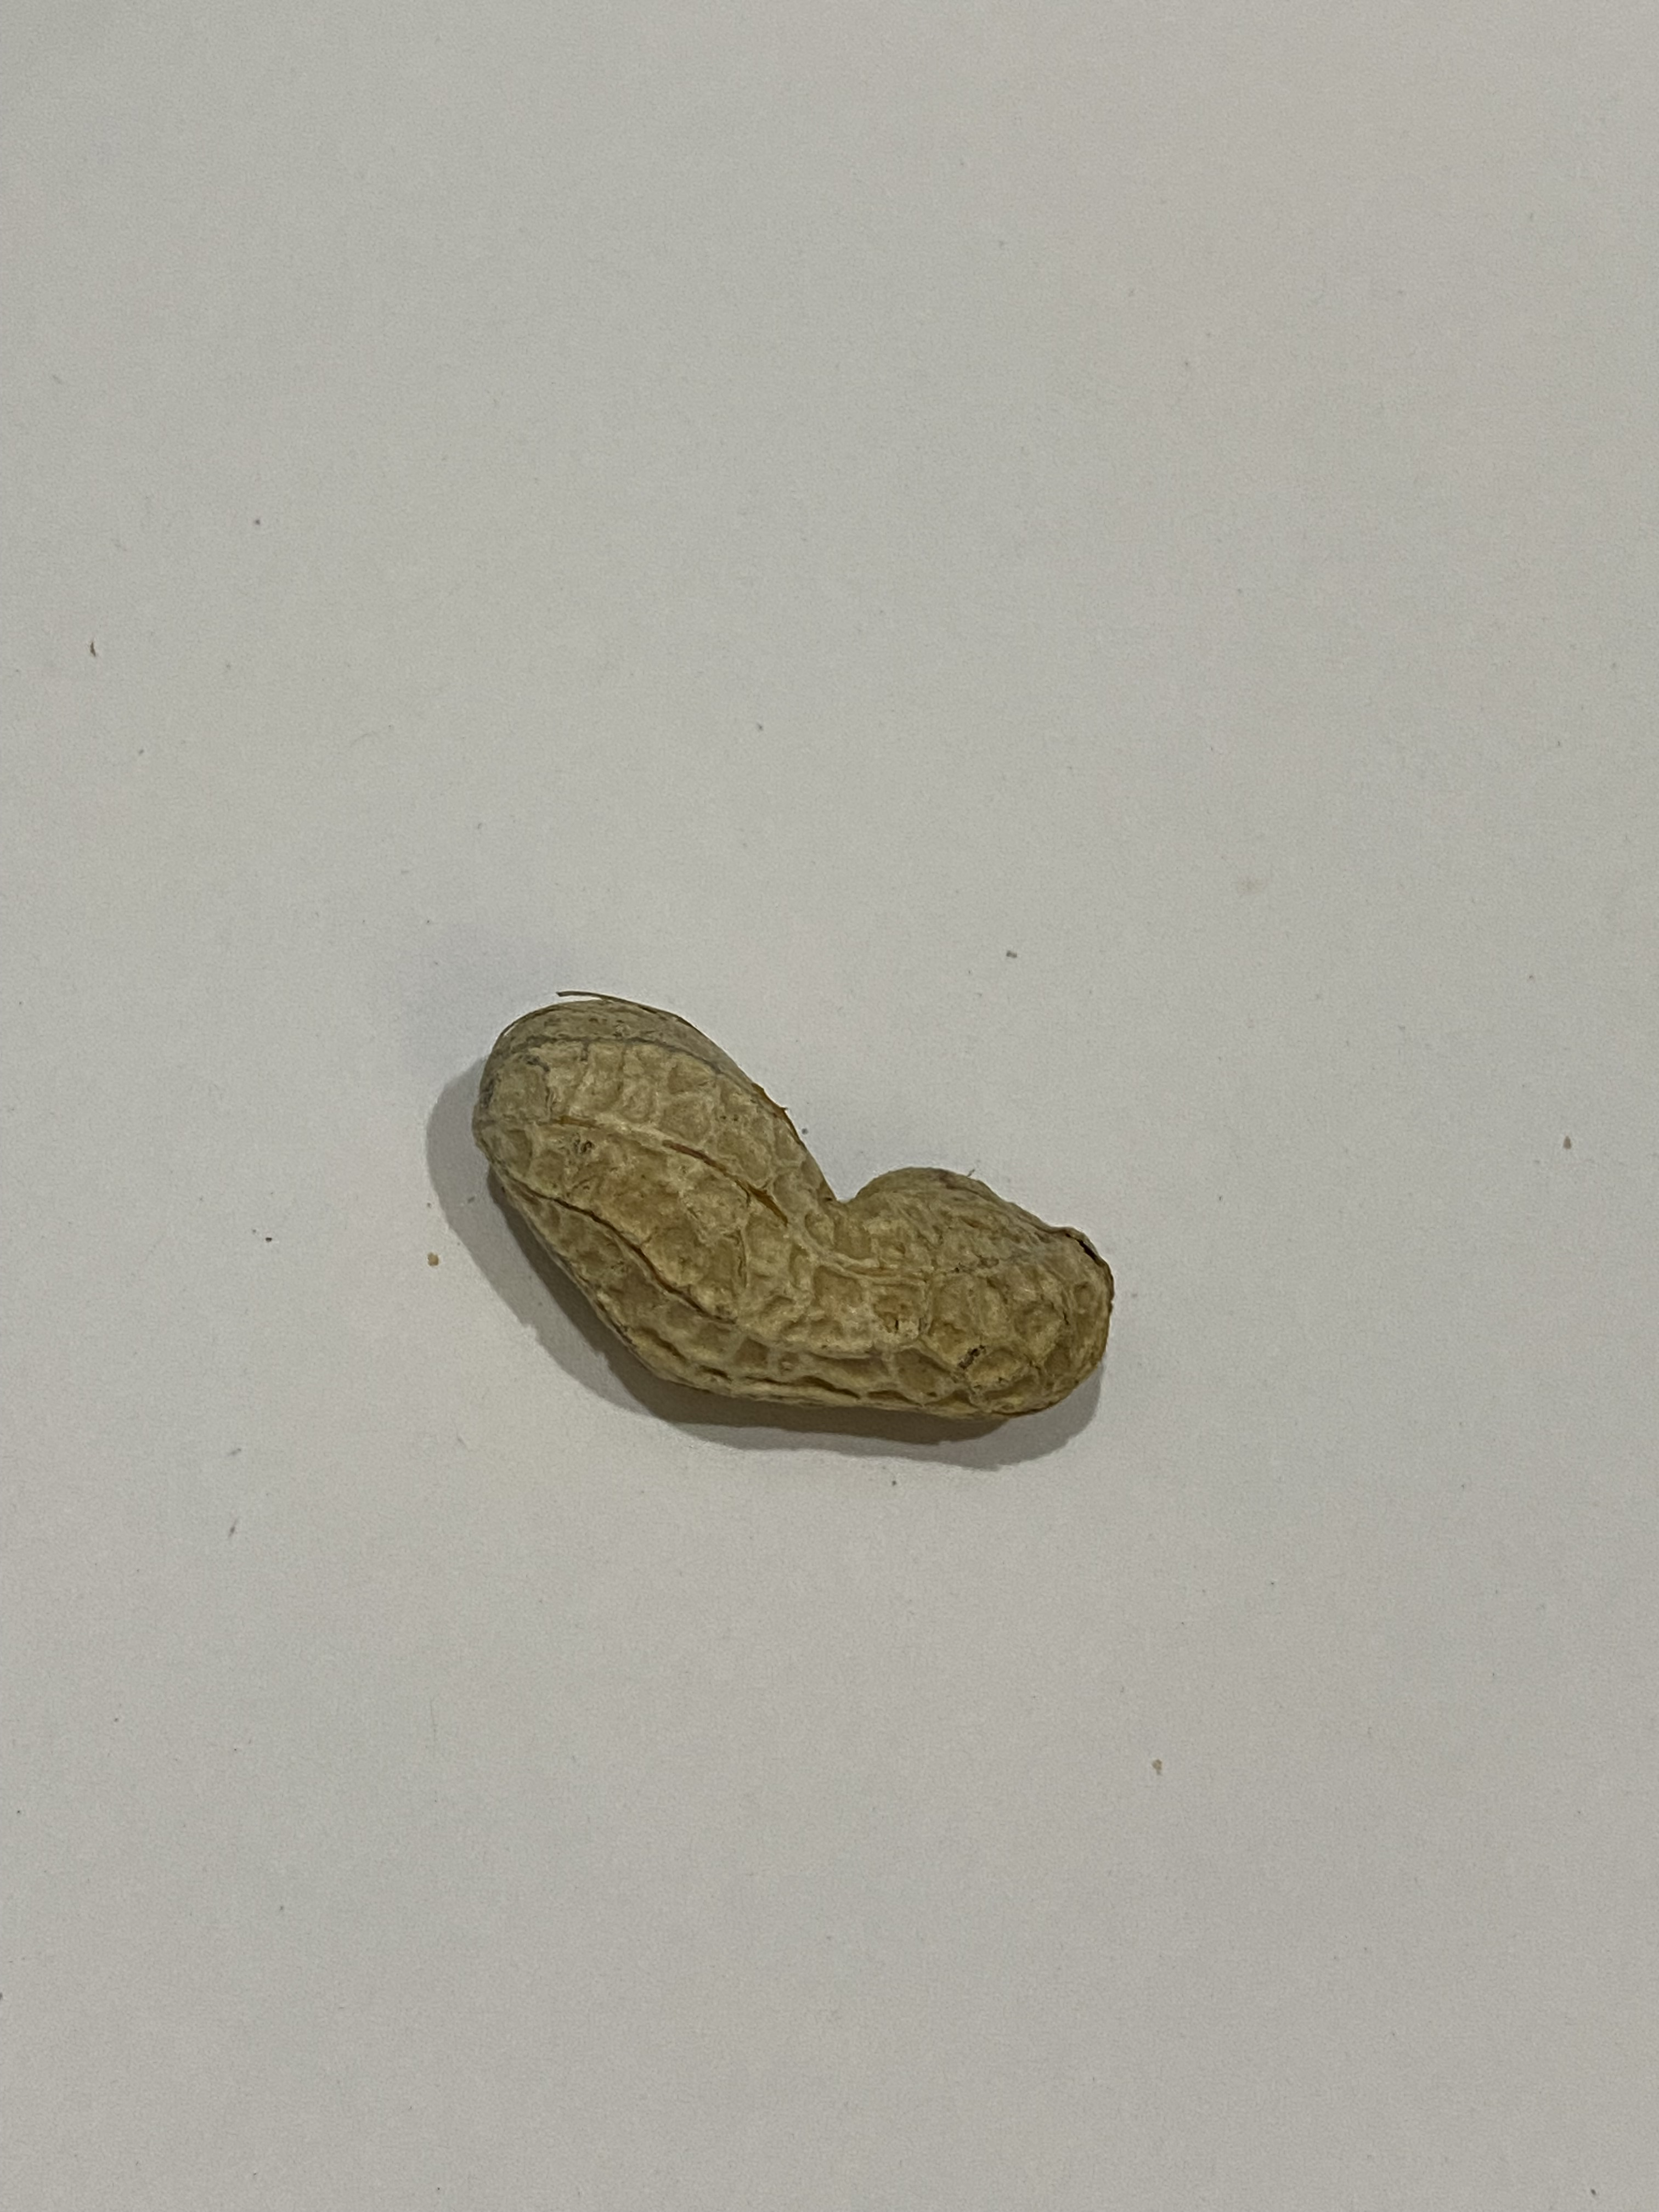kacang2: (460, 968, 1143, 1463)
